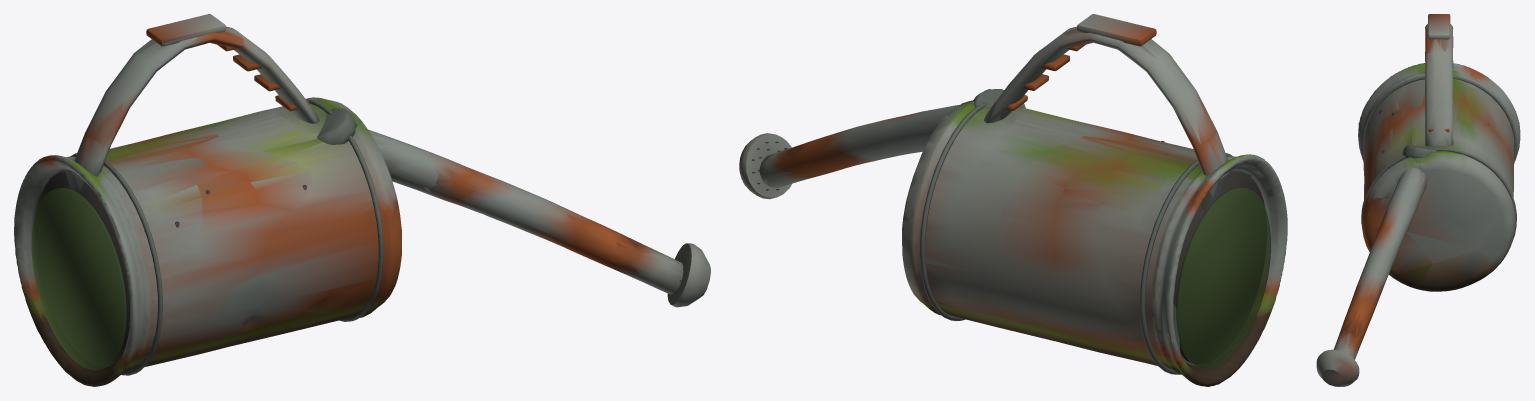
The model's file is mire_watering_can_lod1.glb.
3 views of the same model, side by side, from view 1: azimuth 30°, elevation 25°; view 2: azimuth 150°, elevation 25°; view 3: azimuth 270°, elevation 25° (orthographic). The views are drawn at different scales.
Visible parts, largest first — view 1: mire_watering_can.001; view 2: mire_watering_can.001; view 3: mire_watering_can.001.
Part boxes in pixels (x1=…): mire_watering_can.001: x1=14, y1=14, x2=710, y2=386; mire_watering_can.001: x1=739, y1=14, x2=1287, y2=386; mire_watering_can.001: x1=1316, y1=14, x2=1520, y2=386.
Size of the model in its own units: 52.99 by 29.38 by 24.45.
